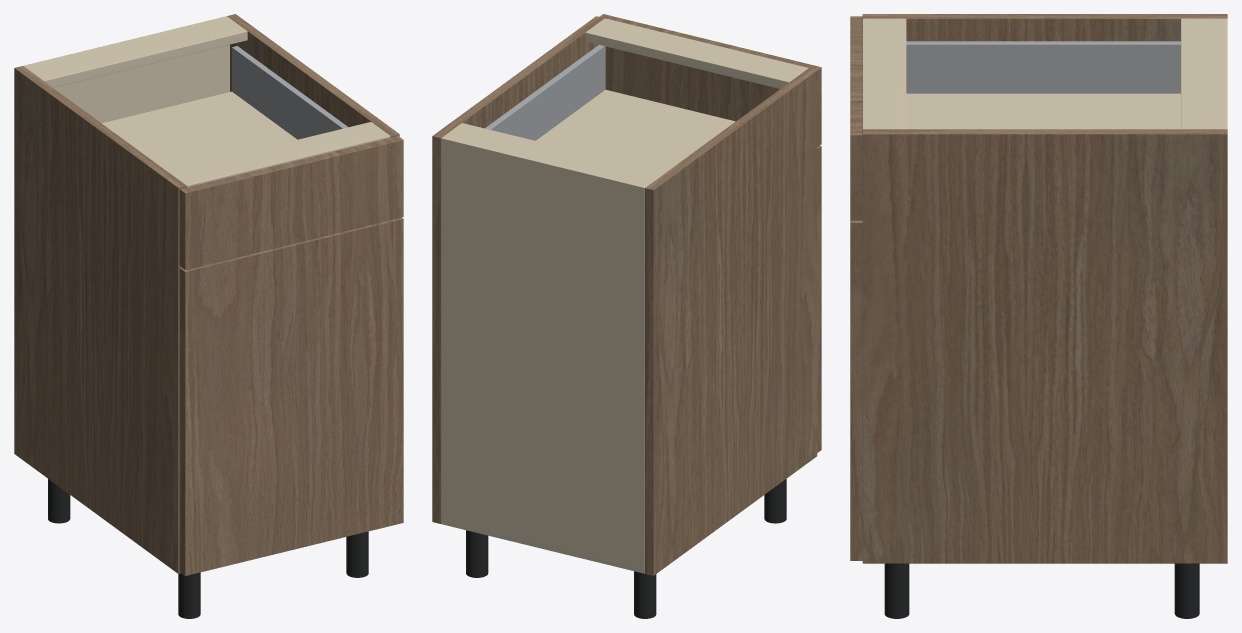
The model's file is oppein-ply-mnw-btc18.glb.
The picture shows the model from 3 angles, left to right: view 1: azimuth 30°, elevation 25°; view 2: azimuth 150°, elevation 25°; view 3: azimuth 270°, elevation 25°; orthographic projection. The views are drawn at different scales.
Visible parts, largest first — view 1: Door, Cabinet side, Drawer front, Drawer floor, Cabinet back, Top support rail, Drawer side.001, Top support rail.001, Cabinet side.001, Adjustable foot.001, Adjustable foot.003, Adjustable foot; view 2: Cabinet back, Cabinet side, Drawer floor, Drawer front, Cabinet side.001, Top support rail.001, Drawer side.001, Top support rail, Cabinet bottom, Door, Adjustable foot, Adjustable foot.002 (+1 smaller); view 3: Cabinet side.001, Drawer side, Drawer floor, Cabinet side, Top support rail.001, Top support rail, Door, Drawer front, Adjustable foot.002, Adjustable foot.003, Cabinet back.
Boxes of the visible parts, <box> form: Door: <box>179,217,403,575</box>; Cabinet side: <box>14,66,186,573</box>; Drawer front: <box>179,136,403,269</box>; Drawer floor: <box>102,91,297,171</box>; Cabinet back: <box>23,16,229,123</box>; Top support rail: <box>25,18,247,87</box>; Drawer side.001: <box>232,46,348,139</box>; Top support rail.001: <box>167,122,390,187</box>; Cabinet side.001: <box>227,14,399,137</box>; Adjustable foot.001: <box>178,572,200,618</box>; Adjustable foot.003: <box>346,531,368,577</box>; Adjustable foot: <box>48,479,70,523</box>; Cabinet back: <box>441,136,647,573</box>; Cabinet side: <box>645,68,817,575</box>; Drawer floor: <box>536,89,735,172</box>; Drawer front: <box>599,14,821,146</box>; Cabinet side.001: <box>432,16,604,523</box>; Top support rail.001: <box>585,18,808,88</box>; Drawer side.001: <box>485,45,605,140</box>; Top support rail: <box>444,123,665,185</box>; Cabinet bottom: <box>441,517,644,573</box>; Door: <box>817,145,821,452</box>; Adjustable foot: <box>634,571,656,618</box>; Adjustable foot.002: <box>466,530,488,577</box>; Cabinet side.001: <box>862,129,1227,563</box>; Drawer side: <box>906,41,1180,93</box>; Drawer floor: <box>906,93,1180,129</box>; Cabinet side: <box>862,14,1227,41</box>; Top support rail.001: <box>862,18,906,129</box>; Top support rail: <box>1181,18,1220,129</box>; Door: <box>850,220,862,560</box>; Drawer front: <box>850,16,862,220</box>; Adjustable foot.002: <box>1174,563,1199,618</box>; Adjustable foot.003: <box>884,563,909,618</box>; Cabinet back: <box>1220,18,1227,129</box>.
Size of the model in its own units: 0.4572 by 0.8763 by 0.6064.
Materials: 4 (1 with a texture image).
